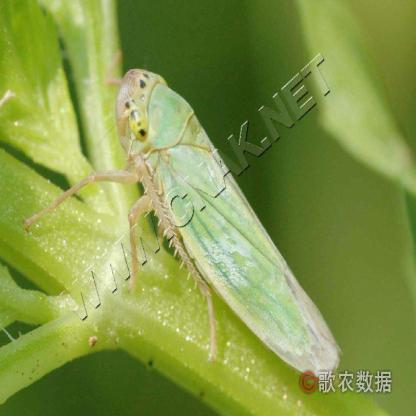Green-Leafhopper: (31, 48, 341, 383)
